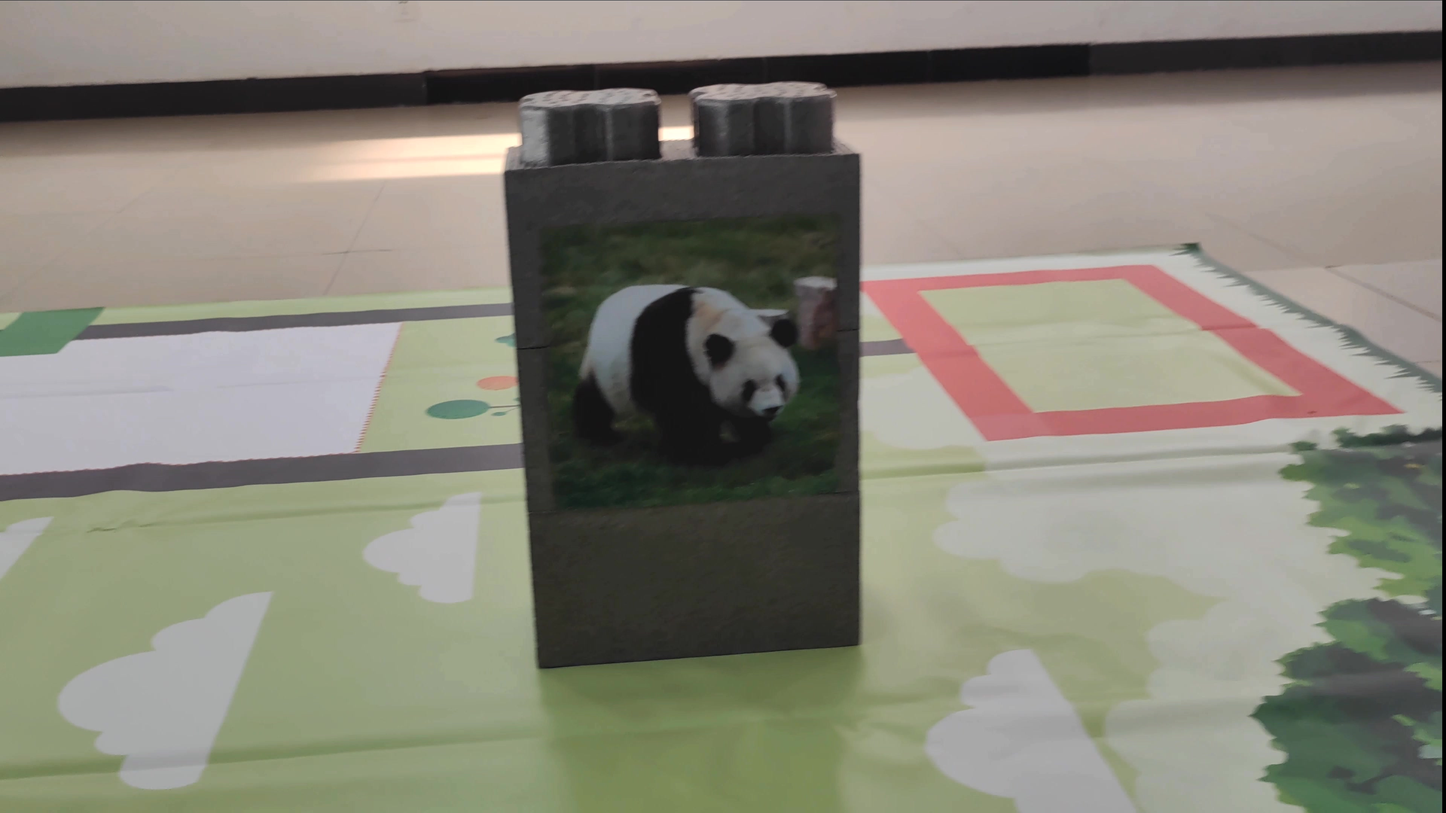panda: (541, 255, 823, 485)
